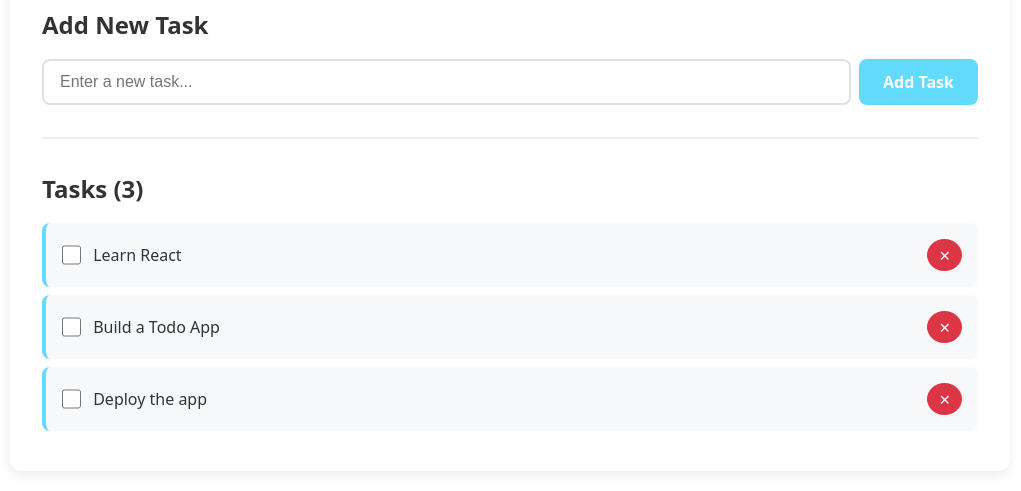
it: TodoList Component › deletes a task when delete button is clicked
The image size is (1021, 491).
Note: Delete the first task
What coordinates should you click on to do the following:
click the button named "delete"
I would click on:
 (945, 255)
Its box is [928, 239, 962, 271].
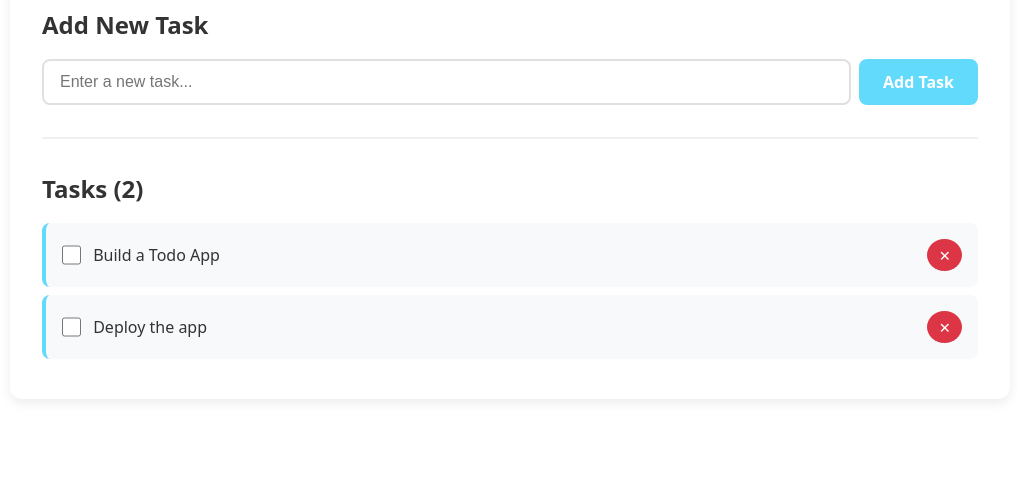
Expected: the number of list items is 2, [42, 223, 978, 287]; [42, 295, 978, 359]
Expected: the text "Learn React" is gone
